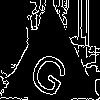G: (25, 41, 76, 100)
